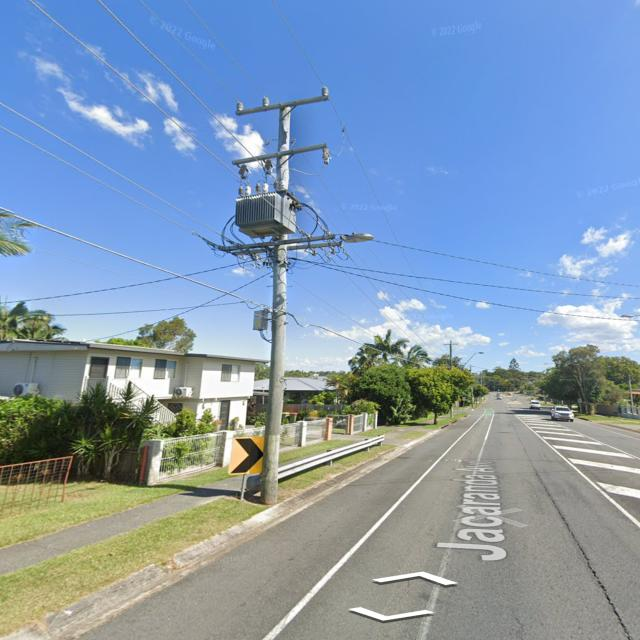HV-transmission: (232, 86, 334, 180), (443, 340, 459, 346)
LV link: (310, 246, 331, 264), (328, 245, 351, 261)
crossarm: (231, 142, 329, 166), (220, 233, 335, 252), (234, 94, 330, 116), (232, 242, 342, 256), (443, 343, 459, 346)
streetlight: (461, 352, 485, 370), (334, 234, 375, 244)
timber-pole: (257, 105, 292, 504), (449, 343, 454, 417)
transformer: (237, 187, 295, 236)
